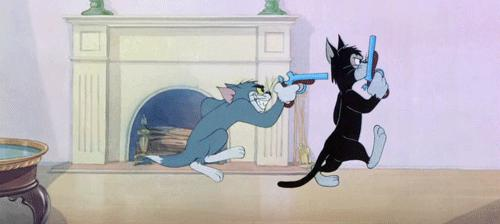tom: (141, 80, 303, 183)
